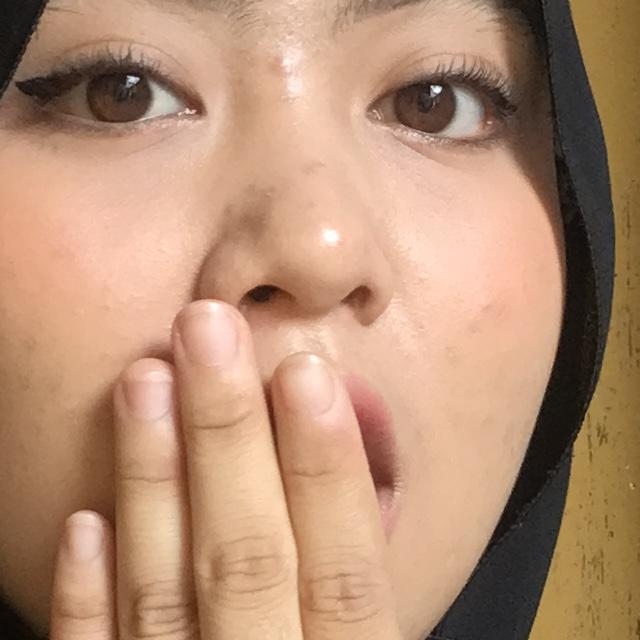ibu: (0, 236, 640, 640)
